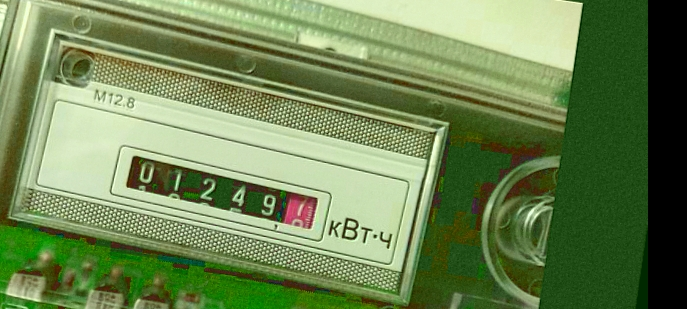0: (136, 158, 157, 186)
1: (168, 166, 185, 193)
2: (197, 176, 217, 204)
4: (229, 182, 249, 209)
7: (292, 192, 311, 220)
9: (257, 191, 278, 219)
screen: (105, 142, 337, 247)
